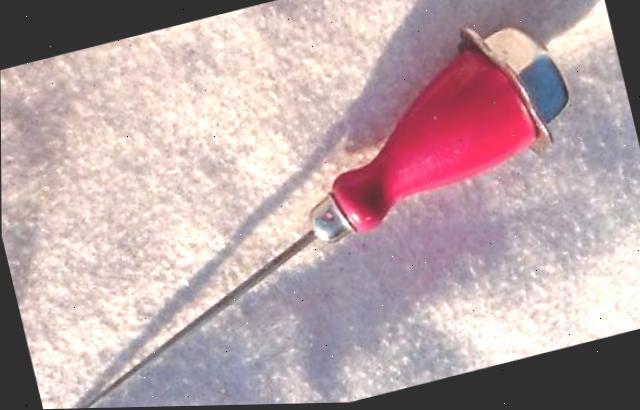ice pick: (0, 4, 617, 410)
